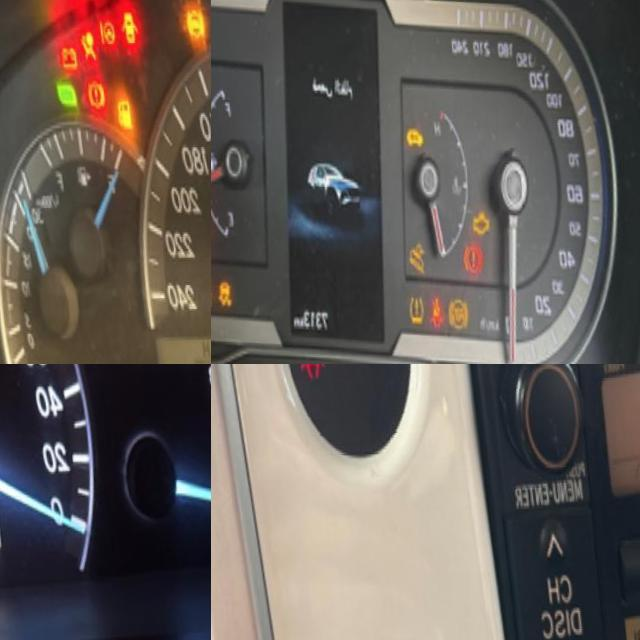Electronic Power Steering: (91, 11, 117, 60)
Seat Belt: (286, 364, 320, 388)
security: (394, 124, 419, 155)
